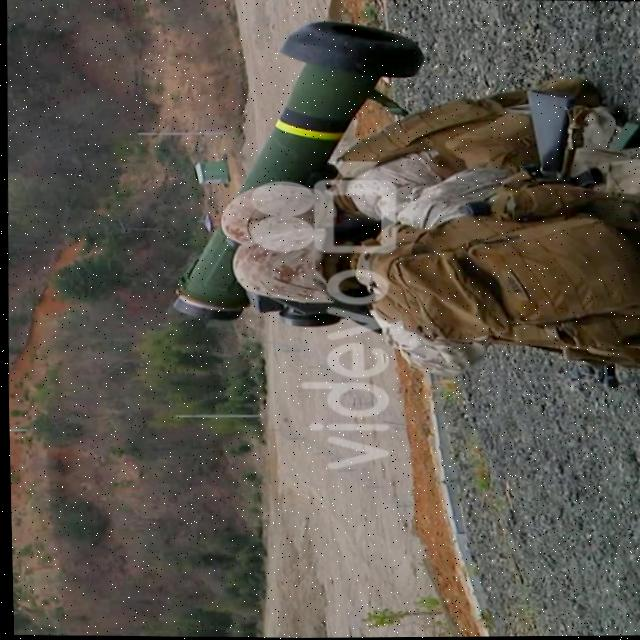rocket: (160, 19, 422, 318)
